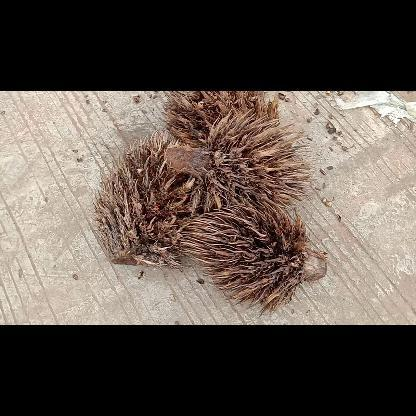Janjang kosong: (182, 204, 326, 314), (164, 112, 308, 212), (93, 132, 199, 266), (164, 91, 278, 147)
